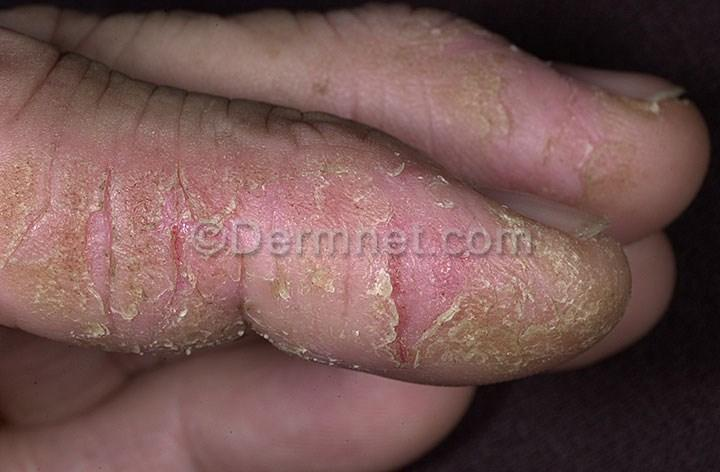Eczema: (393, 66, 673, 200), (24, 200, 221, 349), (336, 283, 628, 379)
